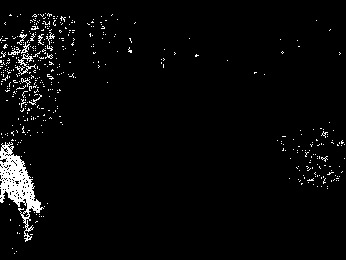person: (1, 142, 46, 243)
